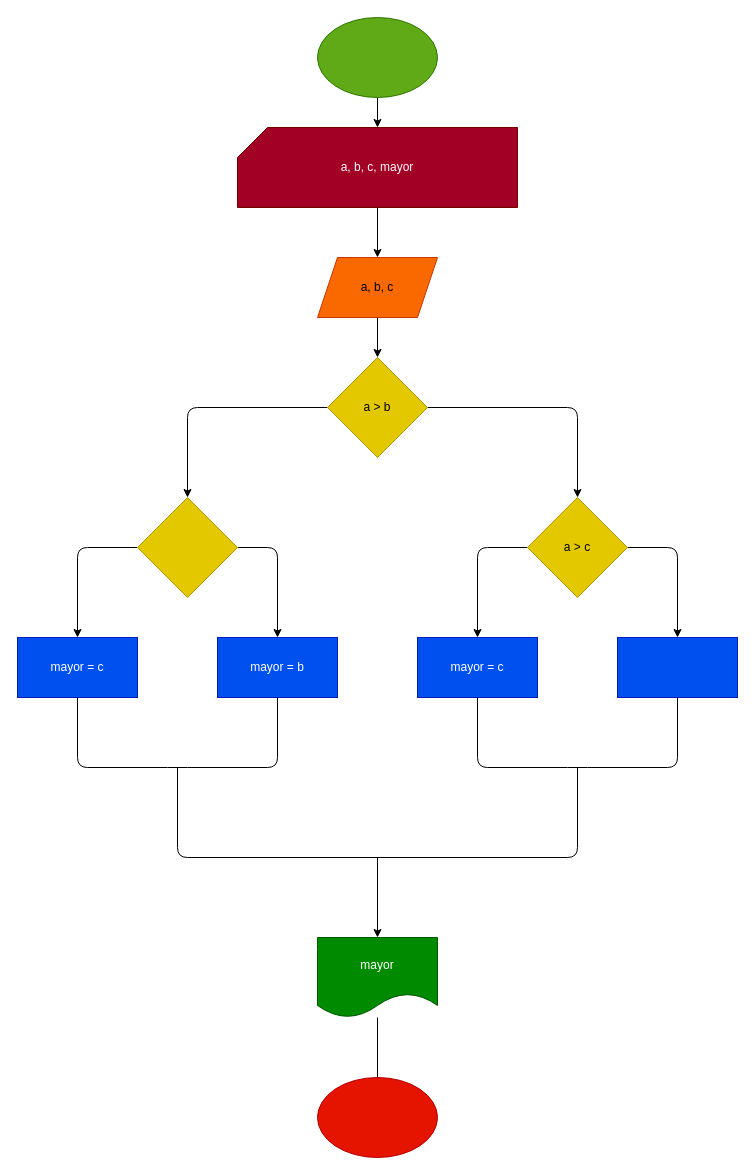
This 755x1175 diagram has some shape labels left out. Here are the shapes that lost their labels. From the top down, the centre of each, then its label:
At pixel 377 57: "INICIO".
At pixel 187 547: "b > c".
At pixel 677 667: "mayor = a".
At pixel 377 1117: "fFin".
